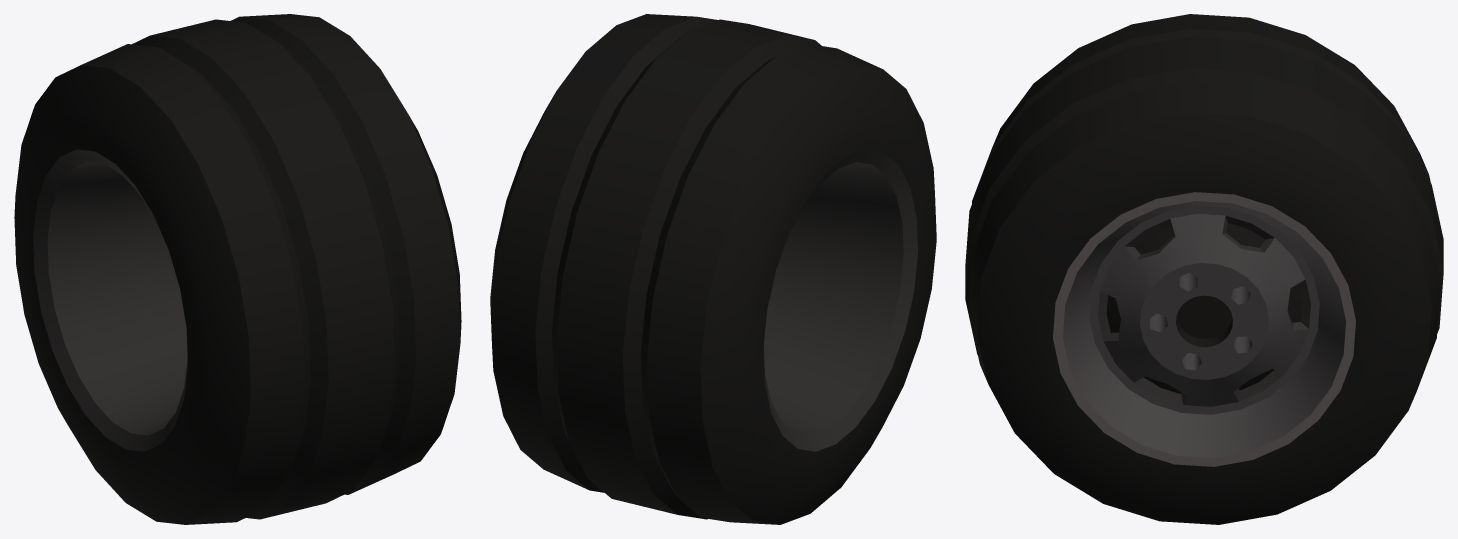
Rendered from Wheel_Single.fbx.
3 renders of one model, left to right at view 1: azimuth 30°, elevation 25°; view 2: azimuth 150°, elevation 25°; view 3: azimuth 270°, elevation 25°, orthographic. The views are drawn at different scales.
Visible parts, largest first — view 1: Wheel_Single; view 2: Wheel_Single; view 3: Wheel_Single.
Part boxes in pixels (x1,y1,x2,y2): Wheel_Single: (14,14,461,524); Wheel_Single: (490,14,936,524); Wheel_Single: (965,14,1443,524).
Size of the model in its own units: 21.97 by 37.03 by 37.03.
